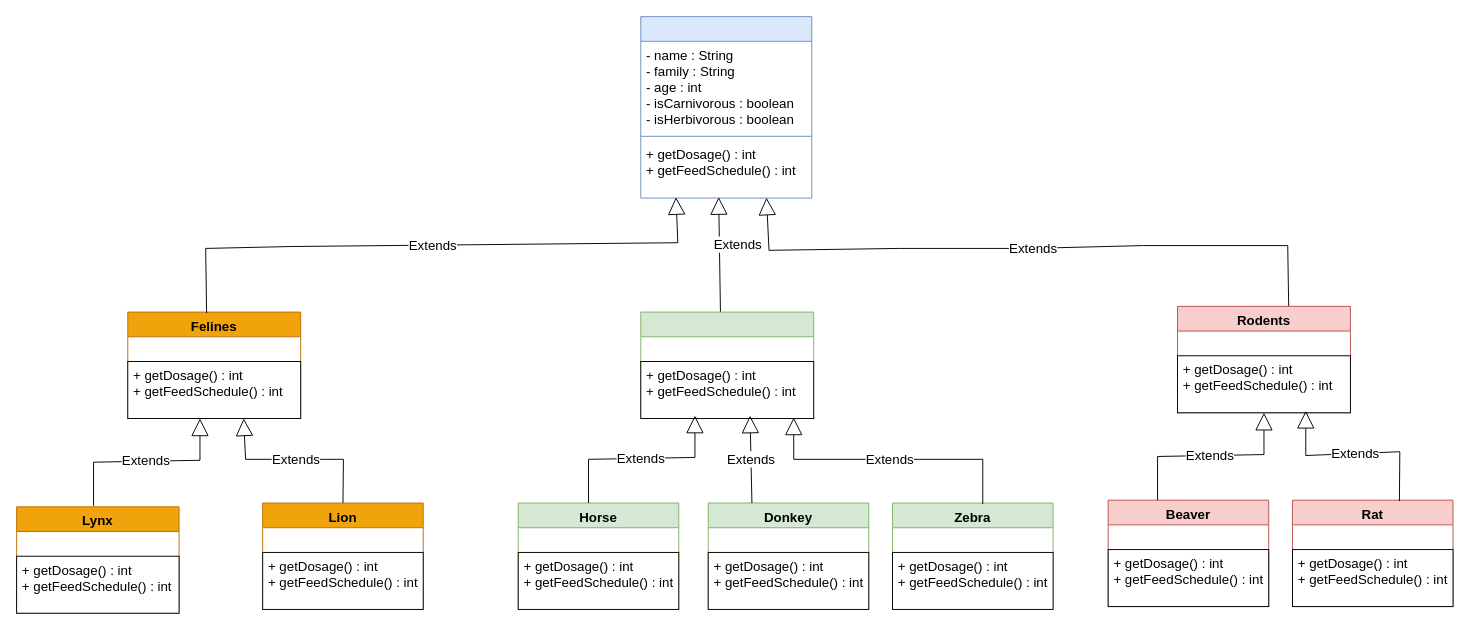
Image size: 1470x633. Some labels were removed from this diagram. The box of each missing label's shape, as (x1, y1, x2, y2) in pixels:
Animal: (640, 16, 812, 198)
Horses: (640, 311, 814, 418)
